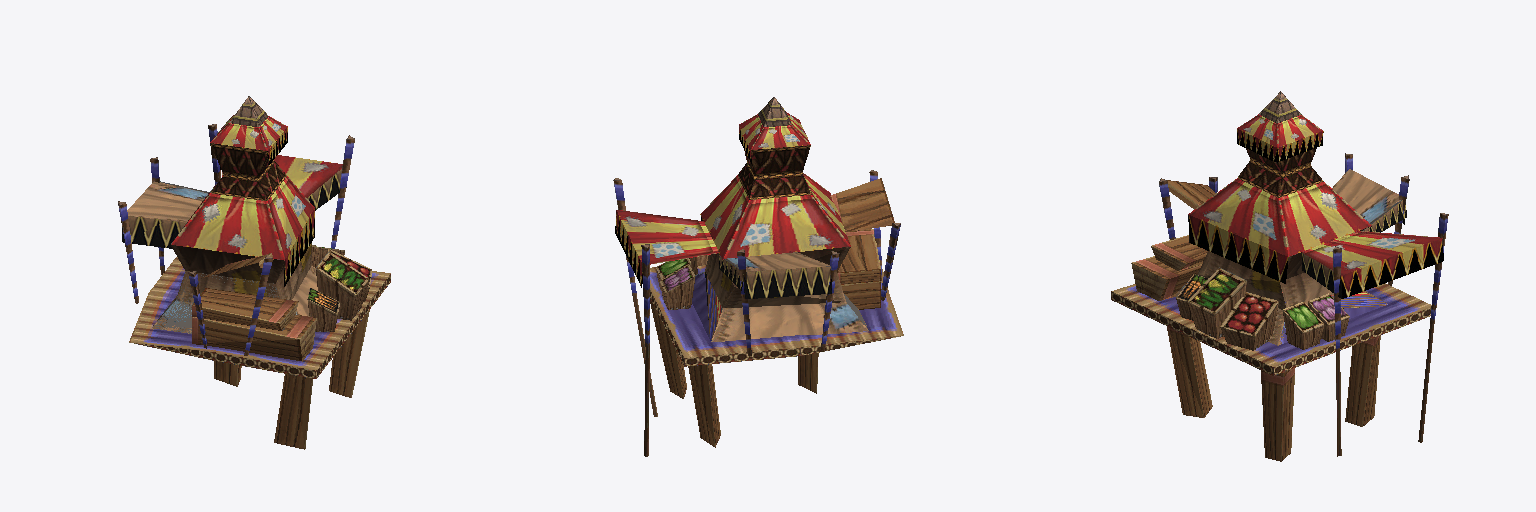
3 renders of one model, left to right at view 1: azimuth 30°, elevation 25°; view 2: azimuth 150°, elevation 25°; view 3: azimuth 270°, elevation 25°, orthographic.
Parts seen in each view (by area): view 1: FruitStand(m0); view 2: FruitStand(m0); view 3: FruitStand(m0).
Part boxes in pixels (x1,y1,x2,y2): FruitStand(m0): (118, 96, 390, 449); FruitStand(m0): (613, 97, 903, 456); FruitStand(m0): (1111, 91, 1448, 461).
Size of the model in its own units: 9.29 by 10.89 by 10.31.
1 materials, 1 textured.